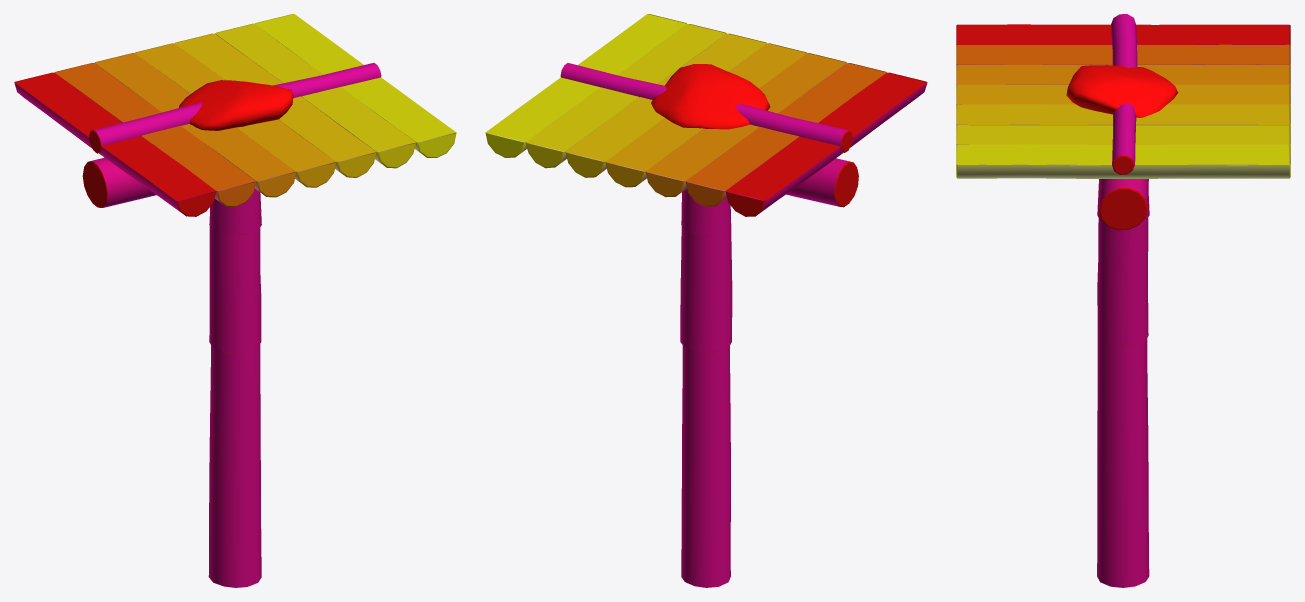
File: foundation.glb
3 renders of one model, left to right at view 1: azimuth 30°, elevation 25°; view 2: azimuth 150°, elevation 25°; view 3: azimuth 270°, elevation 25°, orthographic. The views are drawn at different scales.
Parts seen in each view (by area): view 1: deck_a, deck_b, post_l, post_m, footing, brace, sill, post_s; view 2: deck_a, deck_b, post_l, post_m, footing, brace, sill, post_s; view 3: deck_a, deck_b, post_l, post_m, footing, brace, sill.
Boxes of the visible parts, x1,y1,x2,y2 form: deck_a: (14,14,456,216); deck_b: (16,14,456,216); post_l: (208,190,261,587); post_m: (209,198,261,353); footing: (179,80,293,130); brace: (89,63,381,153); sill: (82,157,156,207); post_s: (209,188,261,235); deck_a: (485,14,927,216); deck_b: (485,14,926,214); post_l: (681,307,730,587); post_m: (680,189,732,352); footing: (651,64,770,129); brace: (560,63,852,152); sill: (786,158,858,207); post_s: (681,189,731,235); deck_a: (956,24,1290,178); deck_b: (956,25,1290,178); post_l: (1097,179,1149,587); post_m: (1097,217,1148,347); footing: (1066,65,1178,117); brace: (1111,14,1137,174); sill: (1099,179,1148,230).
Bounding box in the file's own units: 2.01 × 3.37 × 2.01.
